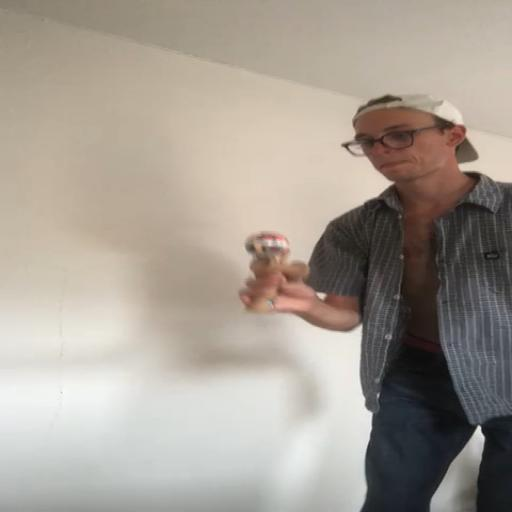kendama_ball: (244, 230, 290, 256)
